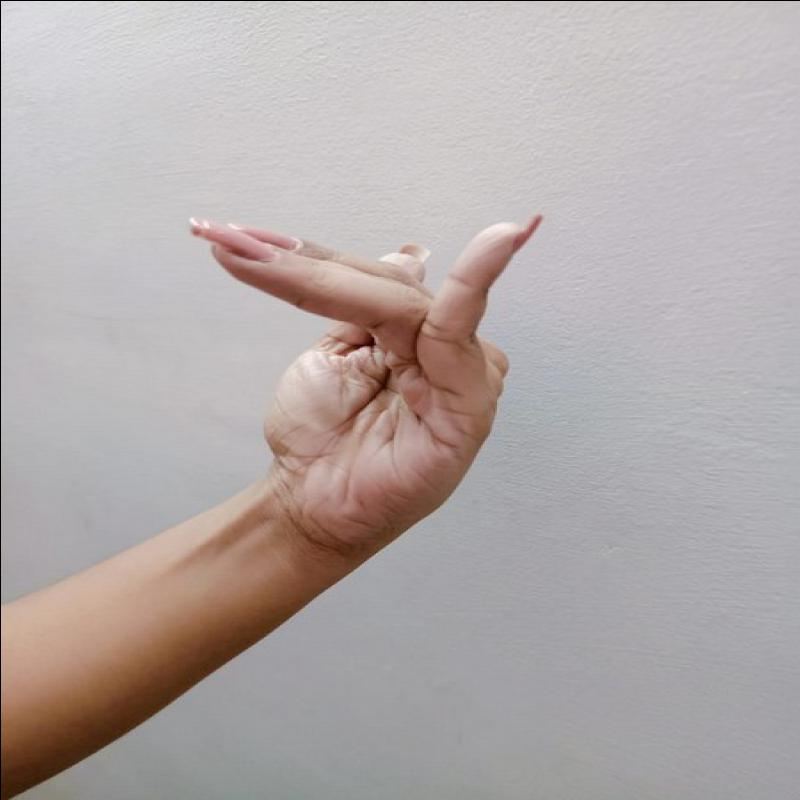Kartharee Mukham: (162, 188, 561, 575)
